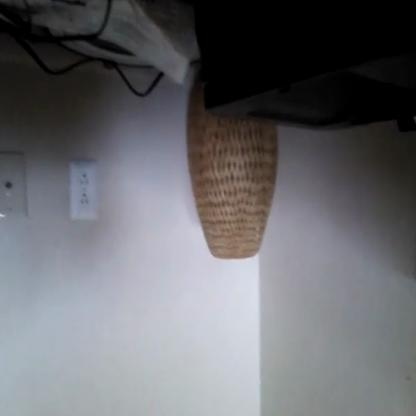OUTLET: (70, 164, 96, 221)
